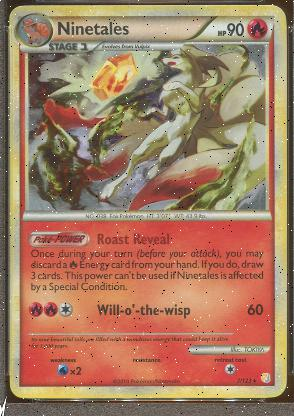Card: (7, 2, 291, 400)
Scratch: (38, 174, 95, 188)
